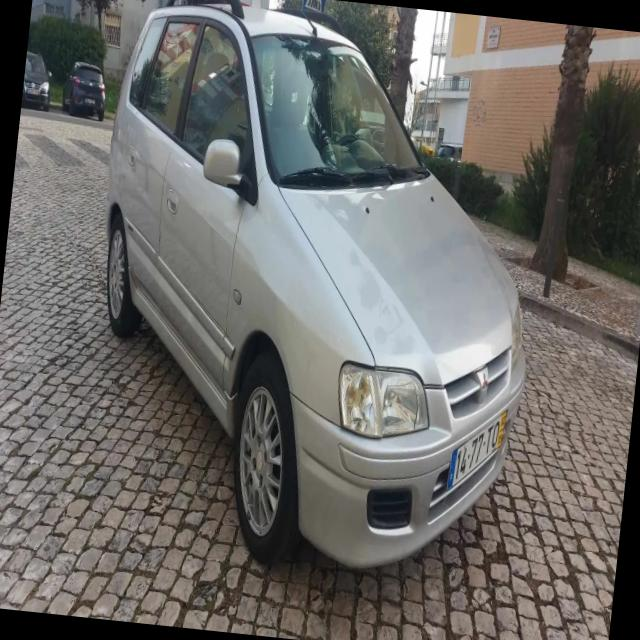portuguese-license-plates: (443, 402, 508, 498)
